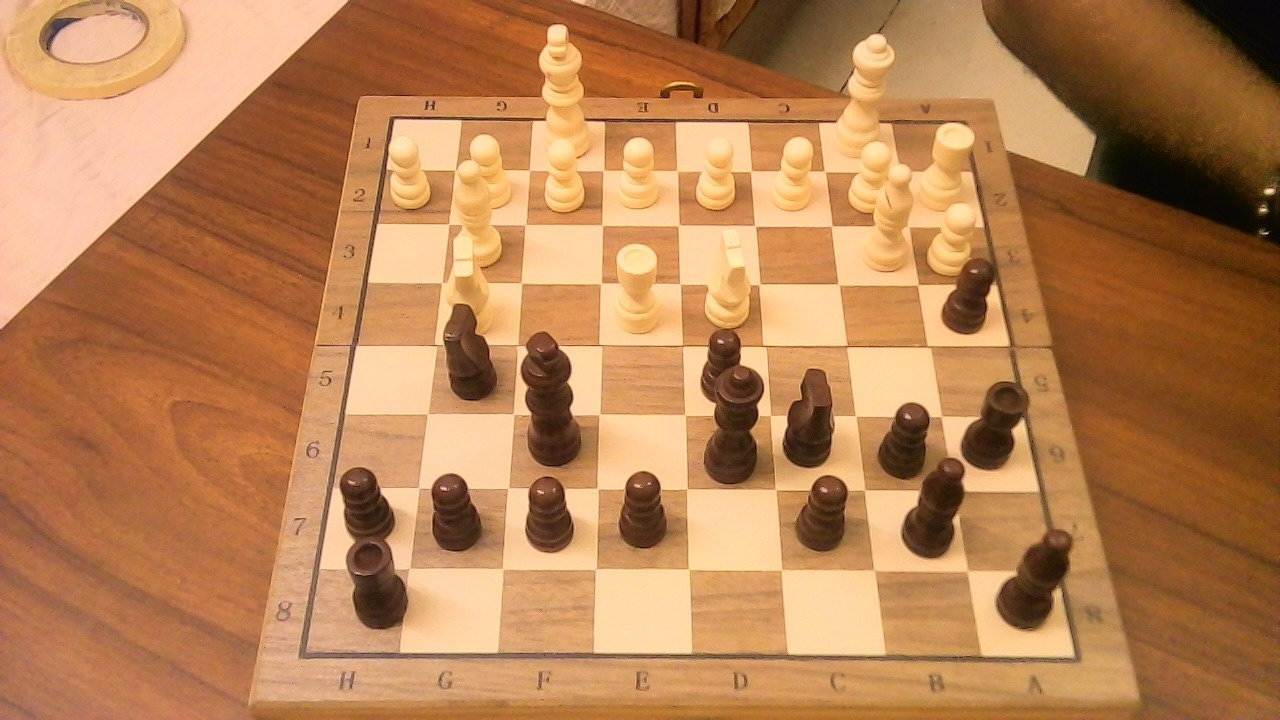B: (855, 154, 923, 278), (448, 148, 513, 271)
K: (533, 13, 598, 163)
N: (692, 238, 759, 328), (455, 231, 499, 314)
P: (841, 136, 912, 218), (923, 193, 986, 278), (763, 127, 823, 216), (459, 126, 518, 213), (535, 129, 592, 216), (611, 128, 667, 215), (688, 128, 744, 215), (382, 129, 437, 211)
Q: (828, 21, 901, 164)
R: (917, 111, 984, 216), (606, 232, 668, 340)
b: (989, 514, 1085, 634), (919, 444, 979, 564)
k: (516, 320, 594, 469)
n: (435, 288, 508, 404), (780, 354, 848, 471)
p: (421, 461, 493, 553), (789, 463, 860, 554), (872, 389, 941, 482), (937, 247, 1006, 339), (693, 318, 753, 407), (335, 468, 395, 545), (618, 470, 668, 550), (522, 477, 576, 550)
q: (697, 353, 775, 487)
r: (965, 370, 1038, 471), (346, 530, 411, 624)
